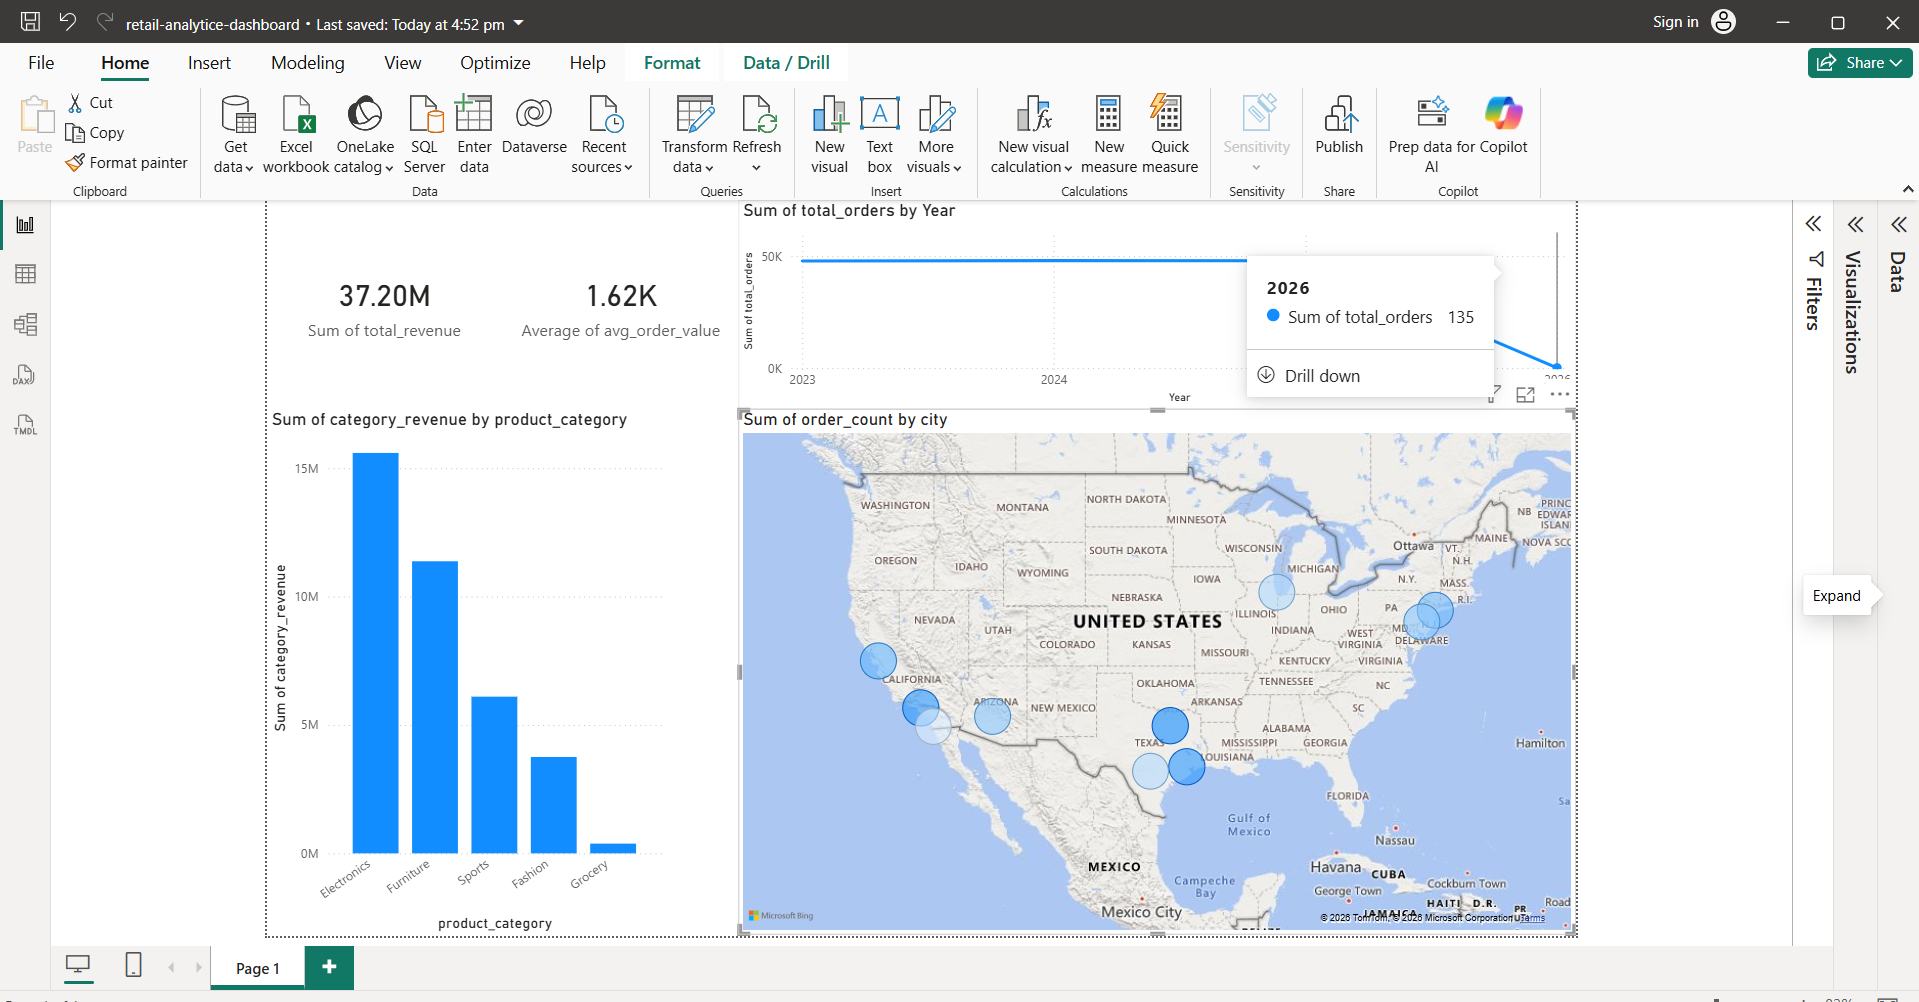

What the dashboard file says about the page in this screenshot:
{"tool":"powerbi","page":{"name":"Page 1","canvas":[1280,720],"ordinal":0},"visuals":[{"type":"card","fields":{"Values":["Sum(part-00000-94a264b8-be13-4271-a204-5e55248237f7-c000 snappy.total_revenue)"]},"box":[0,0,230.5,204.5],"z":0},{"type":"card","fields":{"Values":["Avg(part-00000-94a264b8-be13-4271-a204-5e55248237f7-c000 snappy.avg_order_value)"]},"box":[230.5,0,230.5,204.5],"z":1000},{"type":"lineChart","fields":{"Category":["part-00000-94a264b8-be13-4271-a204-5e55248237f7-c000 snappy.order_date.Variation.Date Hierarchy.Year","part-00000-94a264b8-be13-4271-a204-5e55248237f7-c000 snappy.order_date.Variation.Date Hierarchy.Quarter","part-00000-94a264b8-be13-4271-a204-5e55248237f7-c000 snappy.order_date.Variation.Date Hierarchy.Month","part-00000-94a264b8-be13-4271-a204-5e55248237f7-c000 snappy.order_date.Variation.Date Hierarchy.Day"],"Y":["Sum(part-00000-94a264b8-be13-4271-a204-5e55248237f7-c000 snappy.total_orders)"]},"box":[461.1,0,819.2,204.5],"z":2000},{"type":"clusteredColumnChart","fields":{"Y":["Sum(part-00000-f9b315c4-2ccf-407a-aeba-d502b1a0907c-c000 snappy.category_revenue)"],"Category":["part-00000-f9b315c4-2ccf-407a-aeba-d502b1a0907c-c000 snappy.product_category"]},"box":[0,204.5,391.1,516],"z":3000},{"type":"map","fields":{"Category":["part-00000-a5facd96-f3c1-461a-b822-f1b855acaaf3-c000 snappy.city"],"Size":["Sum(part-00000-a5facd96-f3c1-461a-b822-f1b855acaaf3-c000 snappy.order_count)"]},"box":[461.1,204.2,819.4,515.3],"z":4000}]}

Visuals, with their boxes on the page's 1280x720 design canvas (x1, y1, x2, y2). These are canvas units, not pixel positions in the 1919x1002 screenshot, which may show the page scaled, cropped or inside an application window:
card - Sum(part-00000-94a264b8-be13-4271-a204-5e55248237f7-c000 snappy.total_revenue): 0:0:230:204
card - Avg(part-00000-94a264b8-be13-4271-a204-5e55248237f7-c000 snappy.avg_order_value): 230:0:461:204
lineChart - part-00000-94a264b8-be13-4271-a204-5e55248237f7-c000 snappy.order_date.Variation.Date Hierarchy.Year x part-00000-94a264b8-be13-4271-a204-5e55248237f7-c000 snappy.order_date.Variation.Date Hierarchy.Quarter: 461:0:1280:204
clusteredColumnChart - Sum(part-00000-f9b315c4-2ccf-407a-aeba-d502b1a0907c-c000 snappy.category_revenue) x part-00000-f9b315c4-2ccf-407a-aeba-d502b1a0907c-c000 snappy.product_category: 0:204:391:720
map - part-00000-a5facd96-f3c1-461a-b822-f1b855acaaf3-c000 snappy.city x Sum(part-00000-a5facd96-f3c1-461a-b822-f1b855acaaf3-c000 snappy.order_count): 461:204:1280:720
